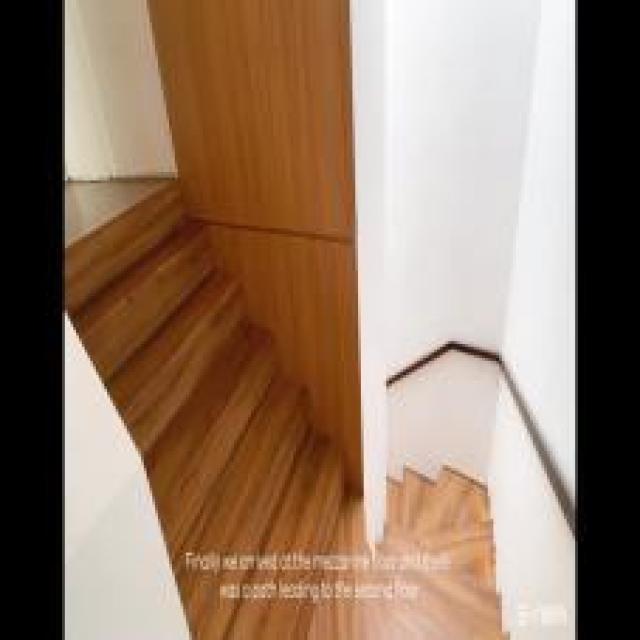upstair: (61, 201, 292, 478)
